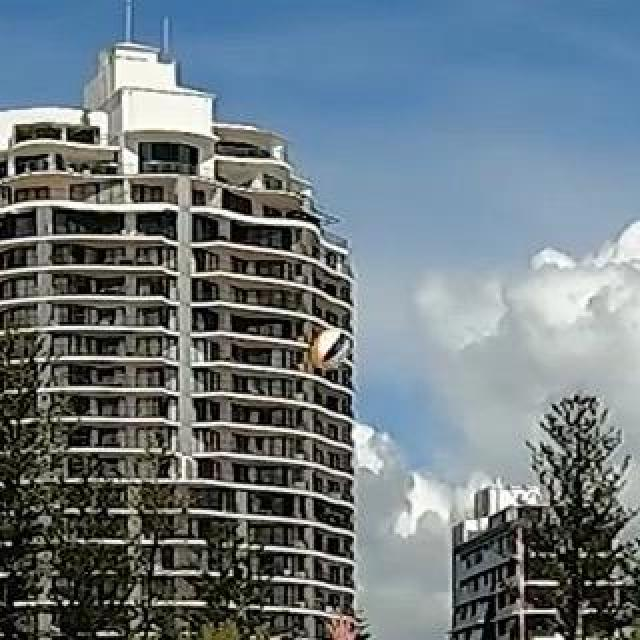volleyball: (311, 329, 349, 369)
